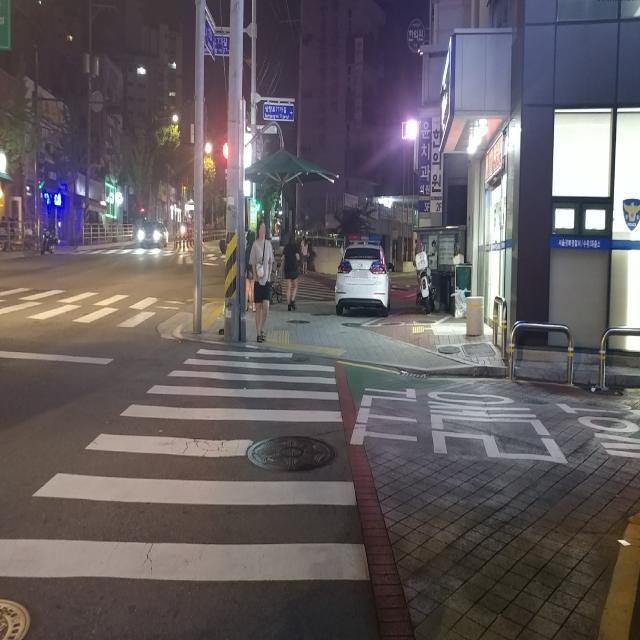횡단보도: (0, 348, 371, 582), (0, 284, 168, 327)
